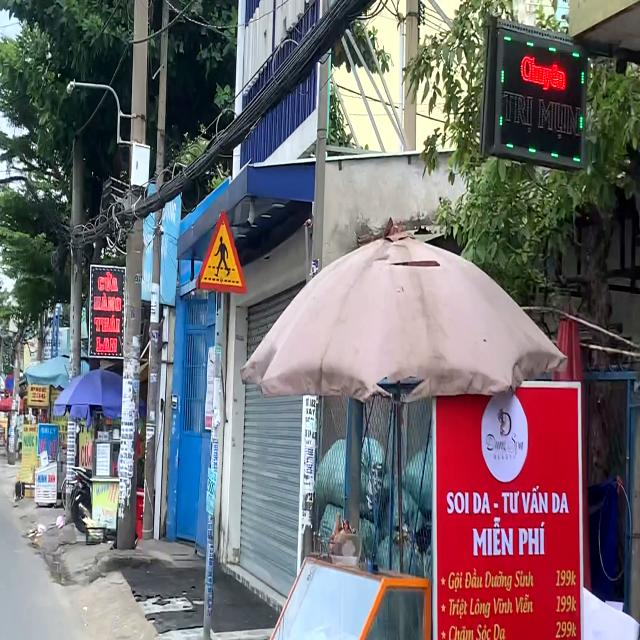W.224: (195, 210, 247, 294)
